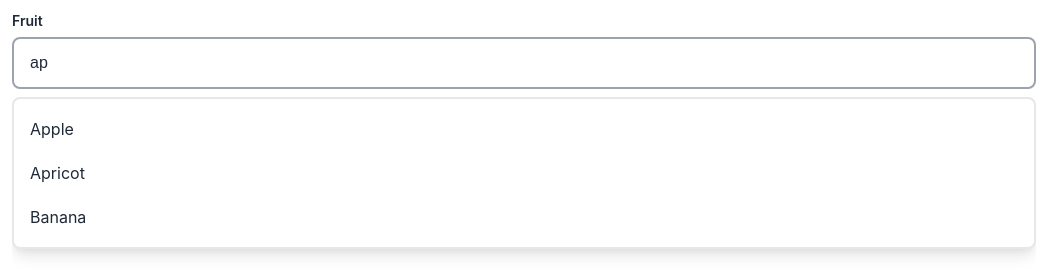
Test case: Combobox › User Interactions › selects option on click
The image size is (1048, 275).
Click the option "Apple" at x=52, y=129, box [30,119,74,139]
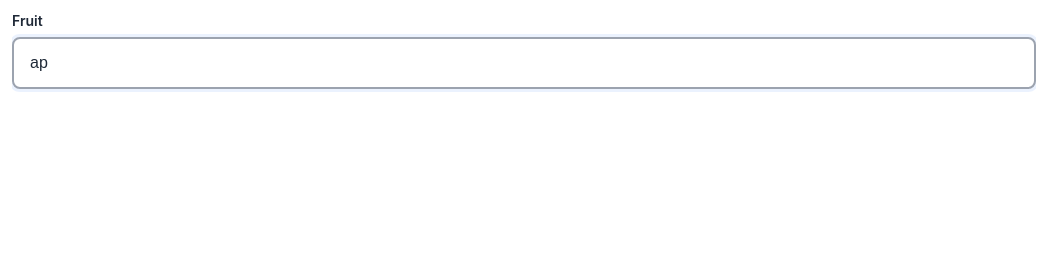
Expected: the list is gone
